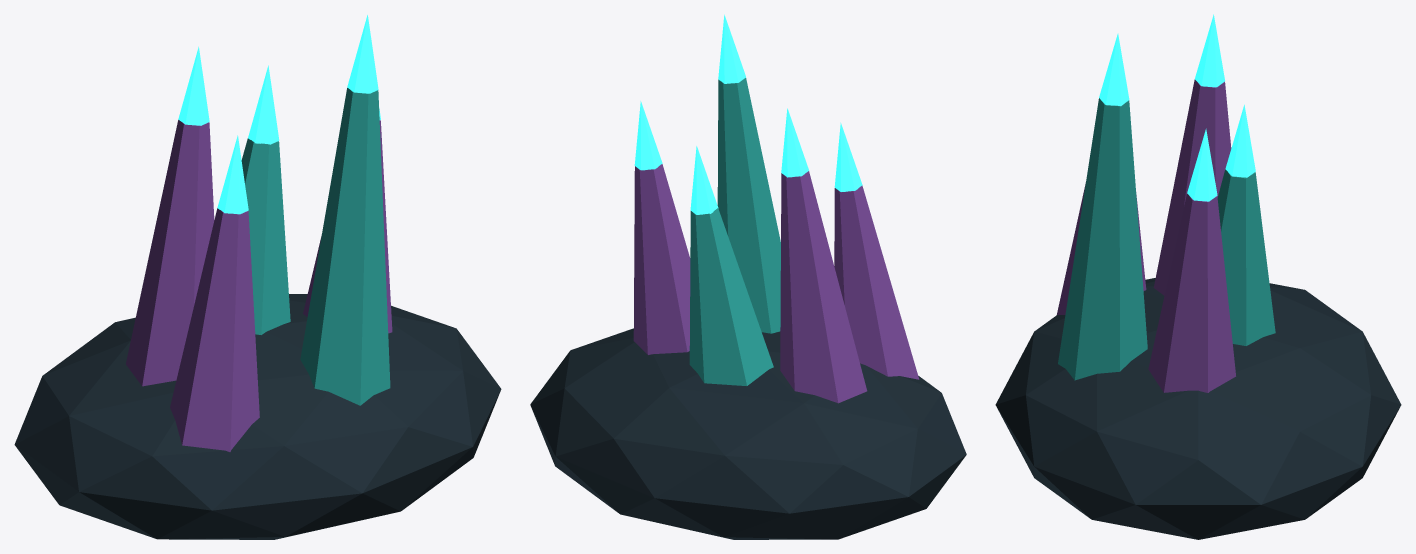
File: mineral_cluster.glb
3 renders of one model, left to right at view 1: azimuth 30°, elevation 25°; view 2: azimuth 150°, elevation 25°; view 3: azimuth 270°, elevation 25°, orthographic. The views are drawn at different scales.
Parts seen in each view (by area): view 1: Geometry_mineral_cluster; view 2: Geometry_mineral_cluster; view 3: Geometry_mineral_cluster.
Part boxes in pixels (x1,y1,x2,y2): Geometry_mineral_cluster: (14, 15, 501, 539); Geometry_mineral_cluster: (530, 14, 966, 539); Geometry_mineral_cluster: (995, 14, 1401, 539).
Size of the model in its own units: 1.24 by 1.42 by 1.06.
